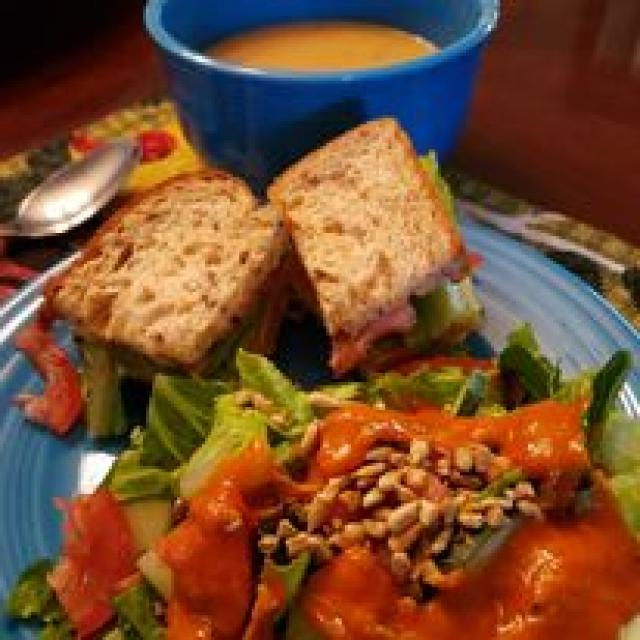Sandwich: (49, 118, 516, 376)
